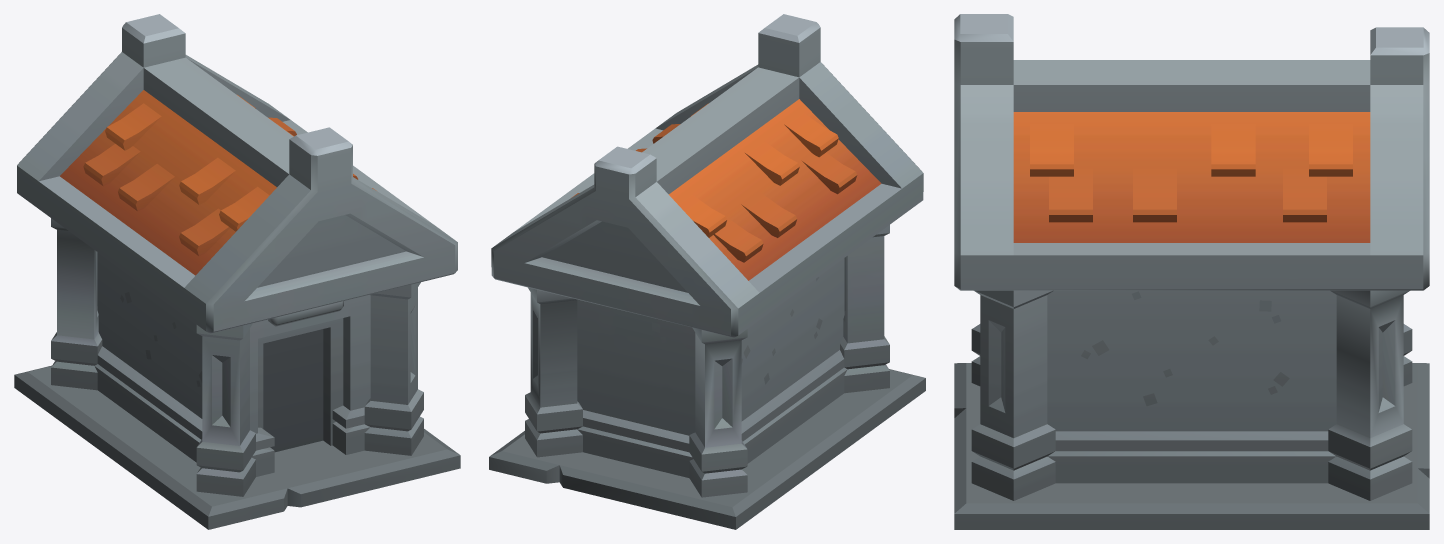
The model's file is crypt.glb.
3 renders of one model, left to right at view 1: azimuth 30°, elevation 25°; view 2: azimuth 150°, elevation 25°; view 3: azimuth 270°, elevation 25°, orthographic. The views are drawn at different scales.
Parts seen in each view (by area): view 1: crypt; view 2: crypt; view 3: crypt.
Part boxes in pixels (<box>): crypt: <box>14,14,460,529</box>; crypt: <box>489,14,925,529</box>; crypt: <box>954,14,1429,529</box>.
Bounding box in the file's own units: 6 × 8 × 8.
Materials: 1 (1 with a texture image).
